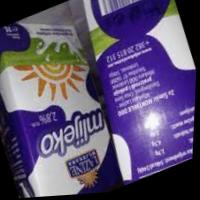cardboard: (60, 0, 199, 199), (0, 0, 129, 197)
